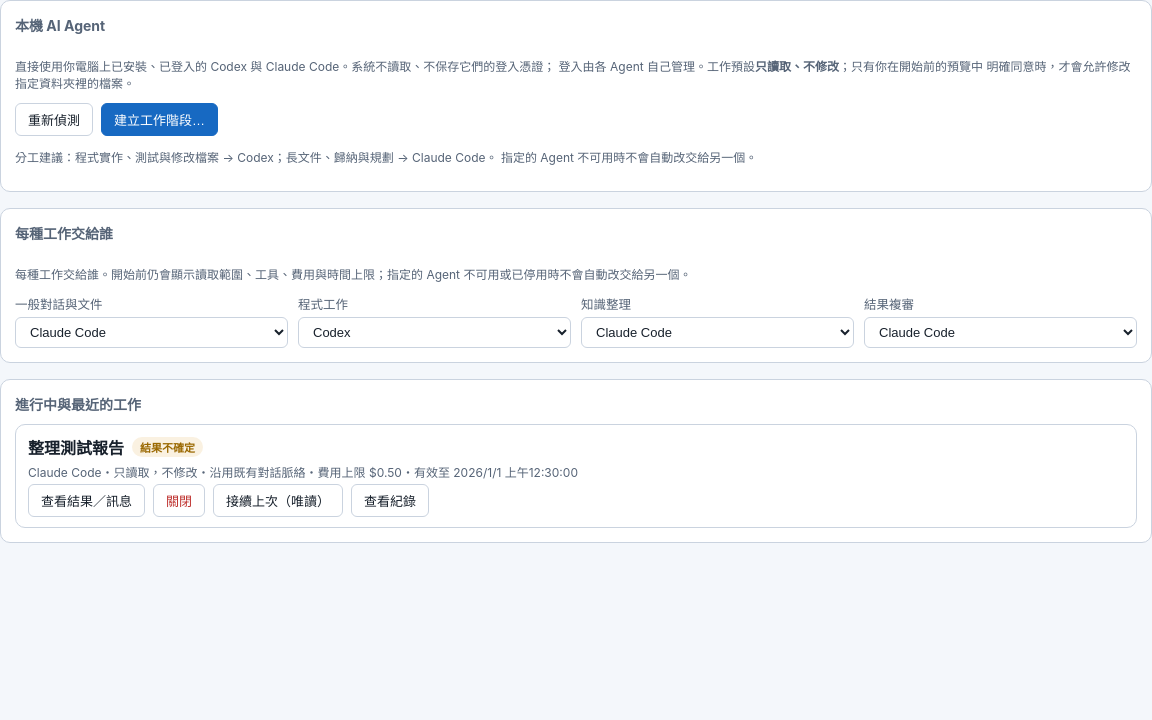
agent-honesty-022：接續上次（唯讀）不得放寬範圍 › 通知說出實際沿用的資料夾與時間，不只是「沿用先前的對話脈絡」
Check: the text "整理測試報告" is shown, box x1=28 y1=435 x2=124 y2=459
Click the button "接續上次（唯讀）" at (278,500), box x1=213 y1=484 x2=343 y2=517
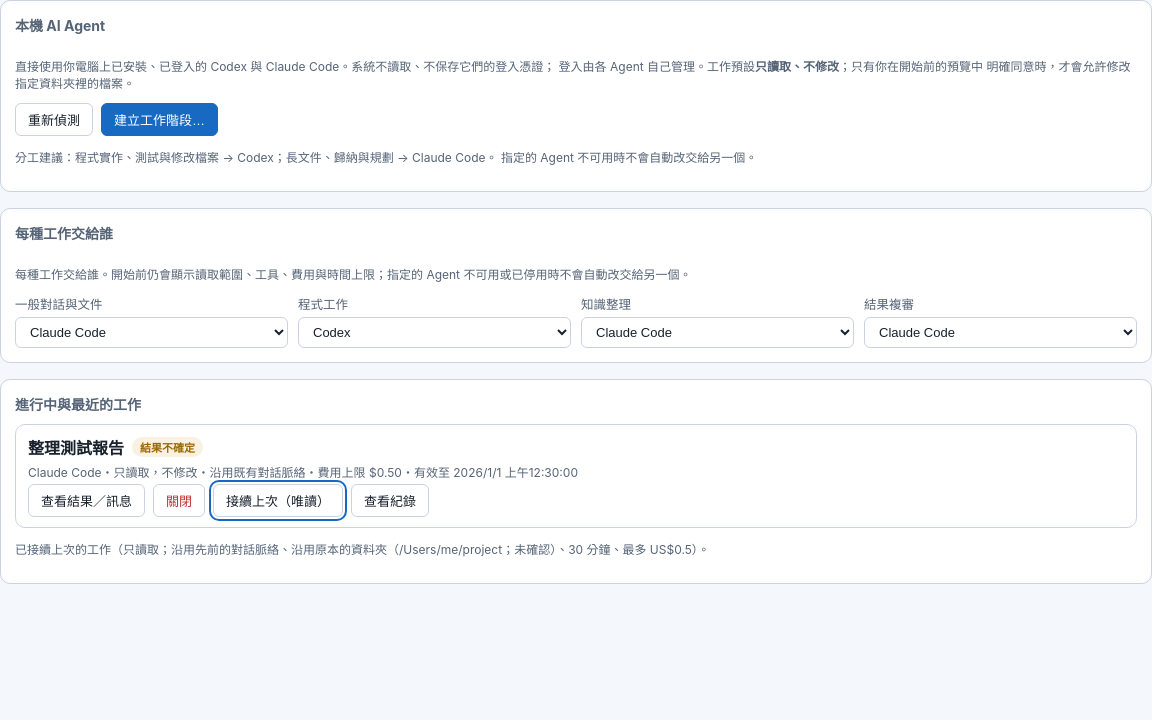
Check: the text "已接續上次的工作" shows "/Users/me/project", box x1=15 y1=542 x2=710 y2=557
Check: the text "已接續上次的工作" shows "30 分鐘", box x1=15 y1=542 x2=710 y2=557
Check: the text "已接續上次的工作" shows "US$0.5", box x1=15 y1=542 x2=710 y2=557
